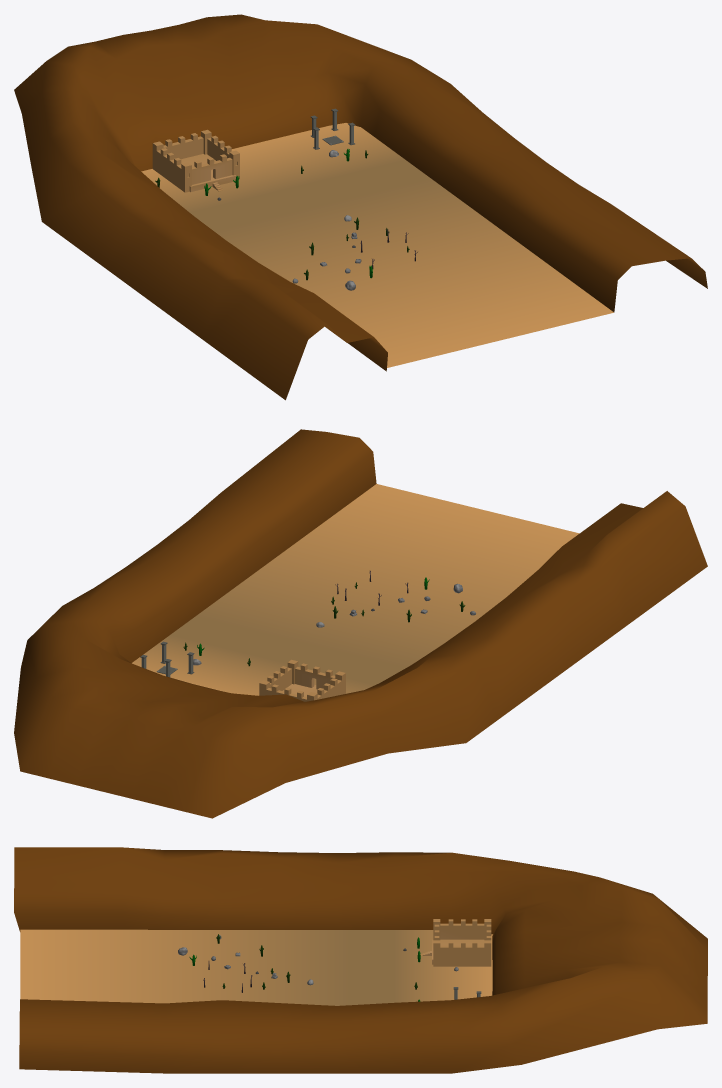
File: EvrmDesert.glb
3 renders of one model, top to bottom at view 1: azimuth 30°, elevation 25°; view 2: azimuth 150°, elevation 25°; view 3: azimuth 270°, elevation 25°, orthographic. The views are drawn at different scales.
Parts seen in each view (by area): view 1: Conyon, Ground, SandCastle; view 2: Conyon, Ground, SandCastle; view 3: Conyon, Ground, SandCastle.
Part boxes in pixels (<box>): Conyon: <box>14,14,707,400</box>; Ground: <box>141,123,613,367</box>; SandCastle: <box>152,129,239,192</box>; Conyon: <box>14,429,707,818</box>; Ground: <box>132,484,579,695</box>; SandCastle: <box>259,659,345,701</box>; Conyon: <box>14,847,707,1073</box>; Ground: <box>20,929,492,1005</box>; SandCastle: <box>420,919,491,966</box>.
Size of the model in its own units: 93.18 by 15.15 by 147.
